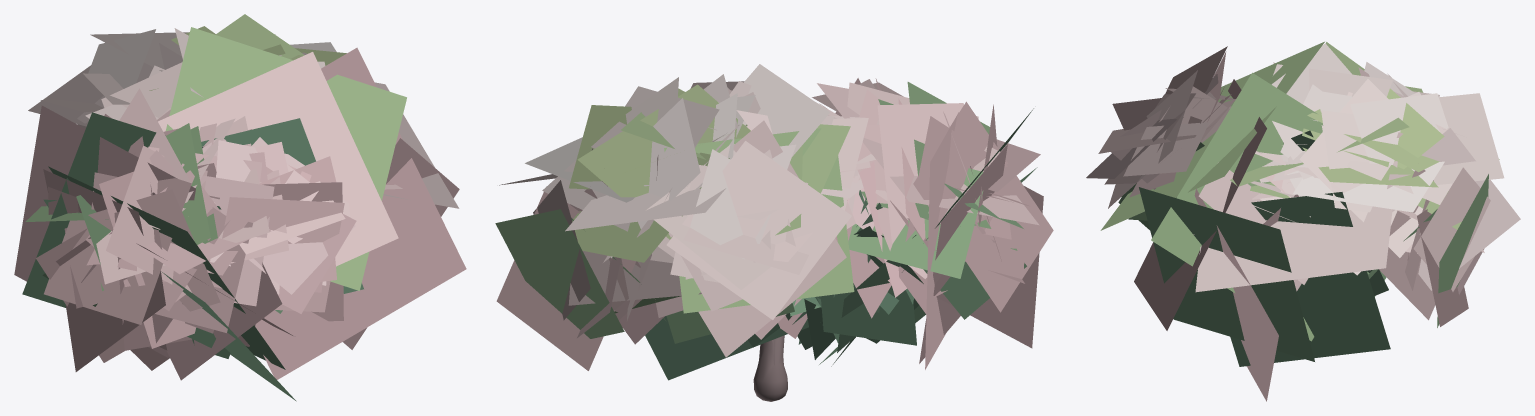
File: crab_apple_v4.glb
3 renders of one model, left to right at view 1: azimuth 30°, elevation 25°; view 2: azimuth 150°, elevation 25°; view 3: azimuth 270°, elevation 25°, orthographic. The views are drawn at different scales.
Parts seen in each view (by area): view 1: far, near; view 2: near, far; view 3: near, far.
Part boxes in pixels (x1,y1,x2,y2): far: [14, 14, 466, 401]; near: [25, 26, 356, 380]; near: [495, 64, 1053, 401]; far: [499, 83, 1039, 380]; near: [1086, 42, 1520, 327]; far: [1100, 41, 1422, 401].
Bounding box in the file's own units: 11.32 × 8.47 × 11.1.
